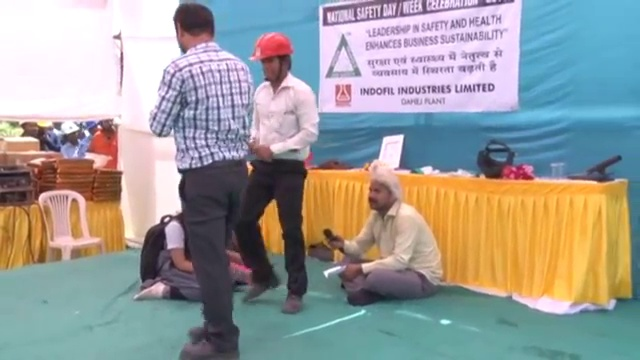helmet: (250, 32, 296, 63), (82, 152, 113, 168), (60, 120, 81, 136), (85, 120, 97, 131)
helmet_off: (169, 1, 217, 54), (366, 172, 400, 216), (19, 121, 38, 137), (98, 119, 114, 134)
helmet_on: (248, 31, 294, 85), (60, 120, 81, 145), (85, 120, 99, 136)
person: (144, 0, 258, 334), (231, 29, 318, 316), (327, 167, 443, 304), (135, 189, 206, 311), (89, 119, 118, 168), (60, 120, 84, 158)
